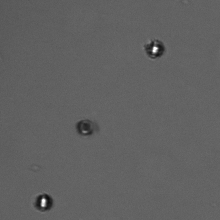Dead Cell: (75, 118, 96, 137)
Living Cell: (144, 38, 165, 59), (33, 193, 55, 212)
